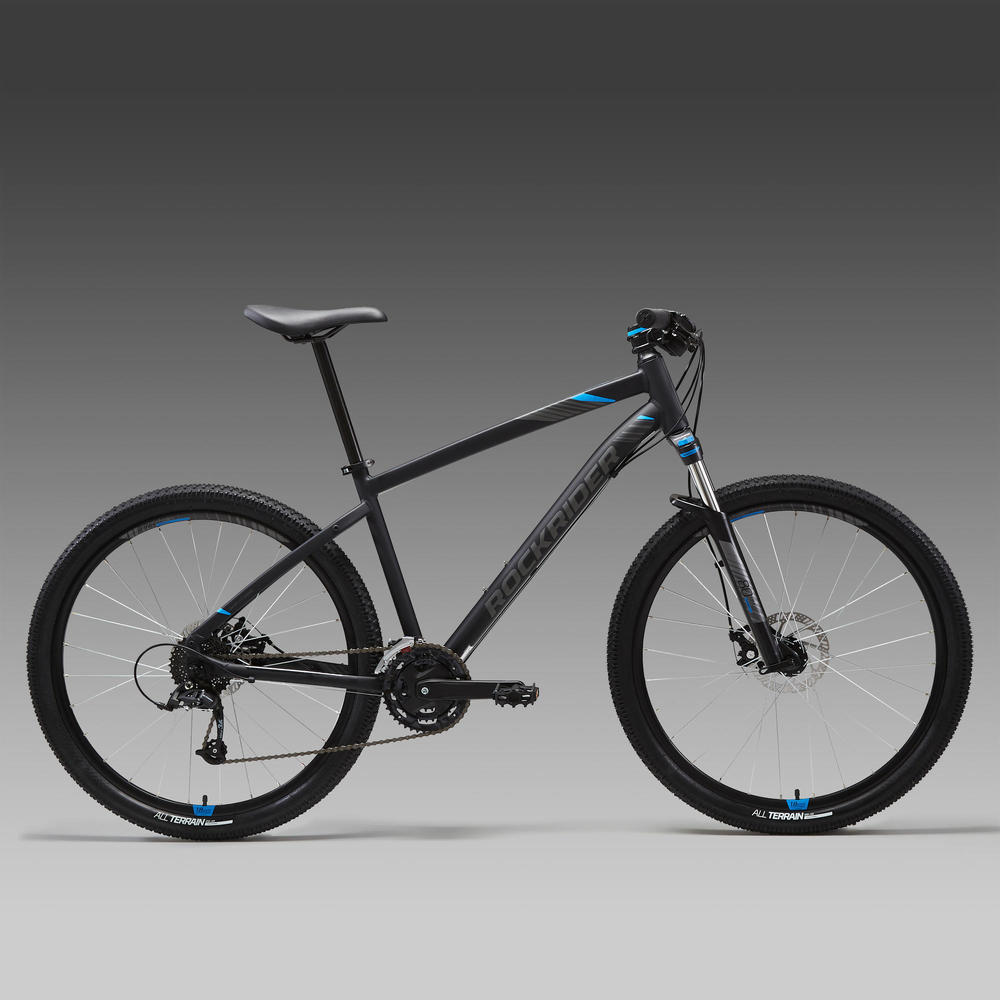MountainBike: (13, 292, 992, 869)
